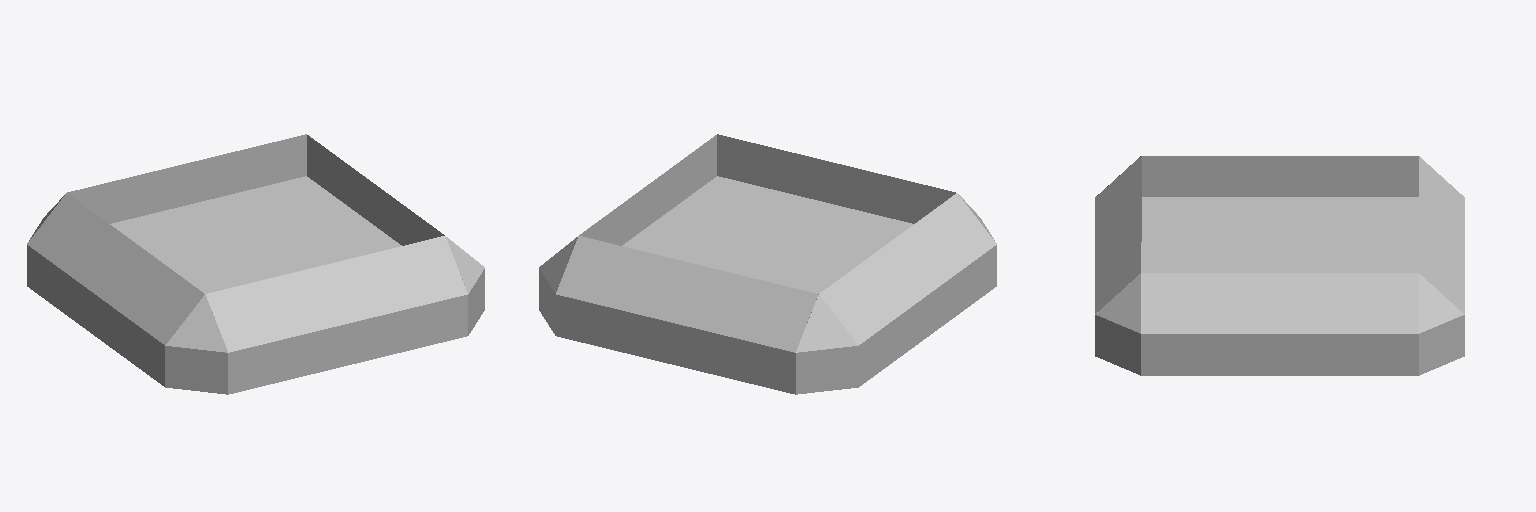
Rendered from button_base.obj.
The picture shows the model from 3 angles: view 1: azimuth 30°, elevation 25°; view 2: azimuth 150°, elevation 25°; view 3: azimuth 270°, elevation 25°; orthographic projection.
Visible parts, largest first — view 1: button_base; view 2: button_base; view 3: button_base.
Part boxes in pixels (bbox=[...]): button_base: bbox=[27, 134, 484, 394]; button_base: bbox=[539, 134, 996, 394]; button_base: bbox=[1095, 156, 1464, 375].
Bounding box in the file's own units: 2 × 0.5 × 2.